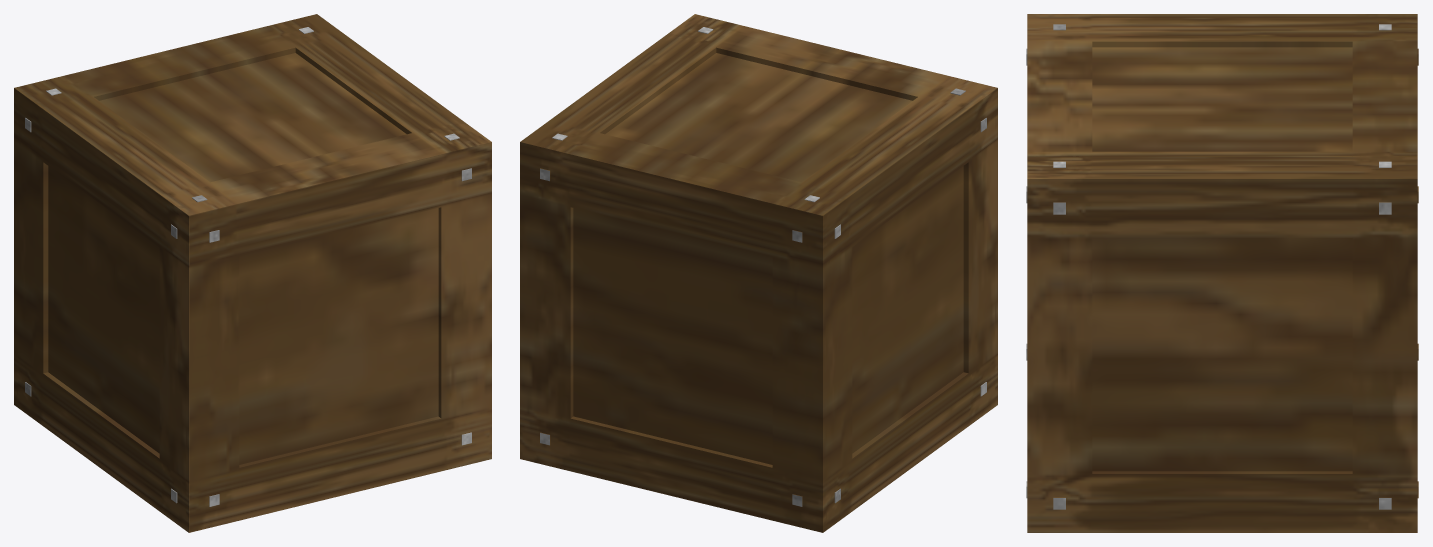
The model's file is Crate1.glb.
3 renders of one model, left to right at view 1: azimuth 30°, elevation 25°; view 2: azimuth 150°, elevation 25°; view 3: azimuth 270°, elevation 25°, orthographic. The views are drawn at different scales.
Parts seen in each view (by area): view 1: Crate1; view 2: Crate1; view 3: Crate1.
Part boxes in pixels (x1,y1,x2,y2): Crate1: [14, 14, 491, 532]; Crate1: [520, 14, 997, 532]; Crate1: [1026, 14, 1418, 532].
Size of the model in its own units: 2.01 by 2.01 by 2.01.
2 materials, 2 textured.
